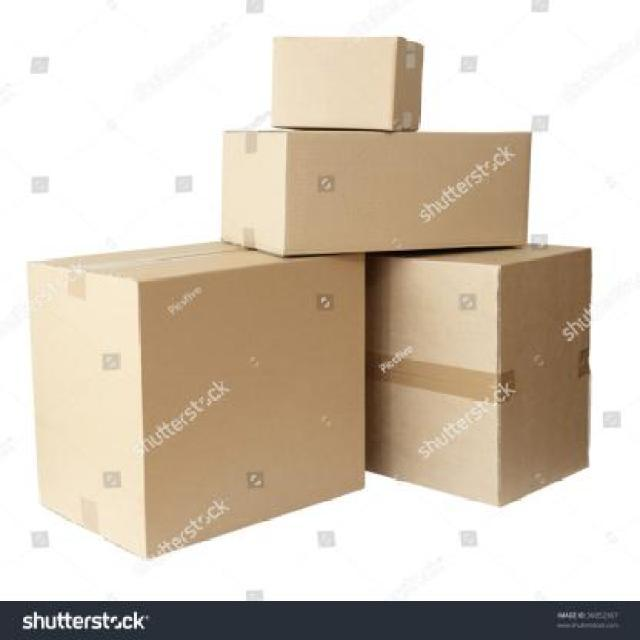BoxFace: (141, 255, 367, 560), (364, 252, 498, 508), (282, 129, 533, 257), (271, 34, 400, 128)
